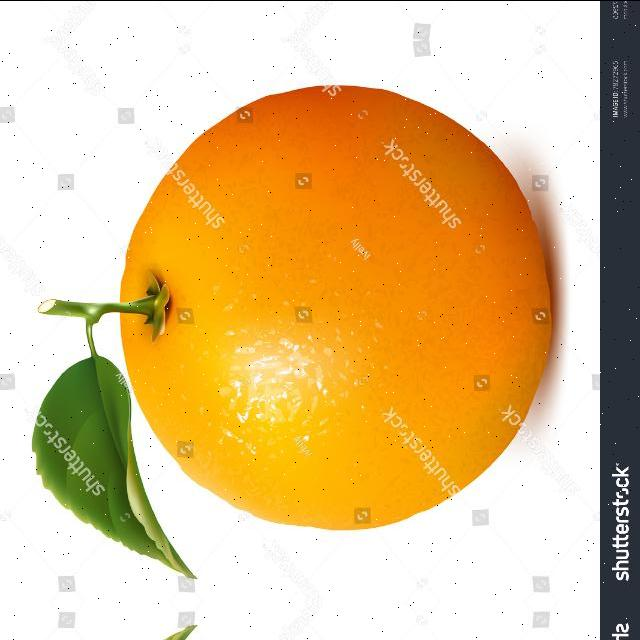Orange: (117, 83, 554, 532)
